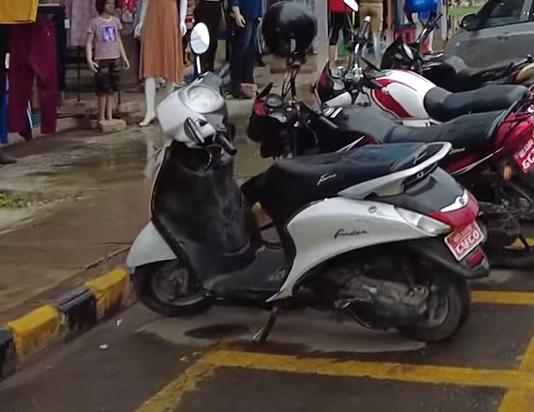scooter: (129, 23, 496, 347)
